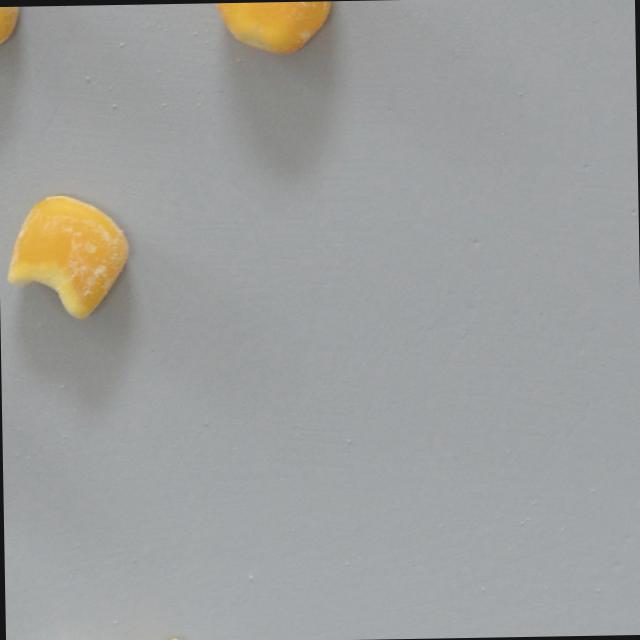pelicula: (4, 193, 131, 320), (212, 0, 335, 54), (0, 5, 21, 52)
